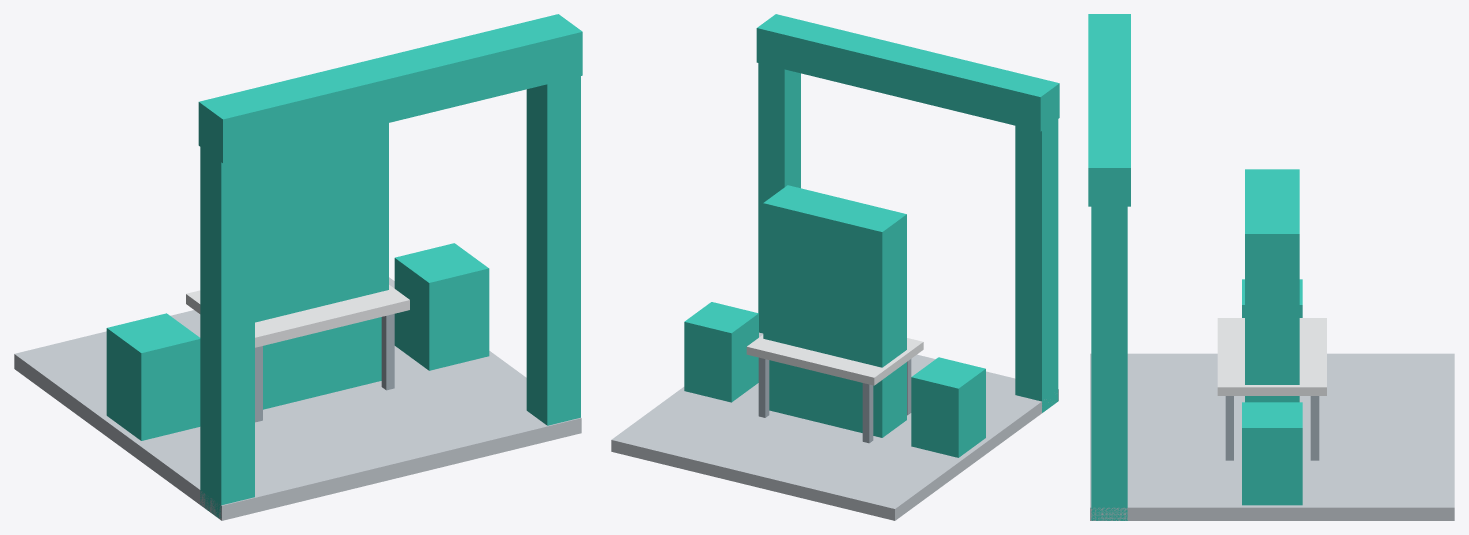
The picture shows the model from 3 angles, left to right: view 1: azimuth 30°, elevation 25°; view 2: azimuth 150°, elevation 25°; view 3: azimuth 270°, elevation 25°; orthographic projection. The views are drawn at different scales.
Visible parts, largest first — view 1: Exhibition Booth Concept; view 2: Exhibition Booth Concept; view 3: Exhibition Booth Concept.
Boxes of the visible parts, box(x1,y1,x2,y2) form: Exhibition Booth Concept: box(14, 14, 582, 520); Exhibition Booth Concept: box(611, 14, 1059, 520); Exhibition Booth Concept: box(1088, 14, 1454, 520).
Bounding box in the file's own units: 3 × 3.2 × 3.01.
